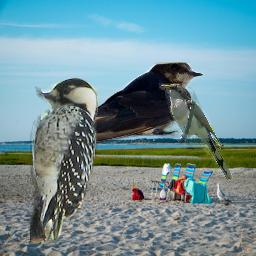Cuckoo: (159, 83, 233, 181)
Swallow: (55, 62, 204, 145)
Woodpecker: (30, 77, 98, 244)
